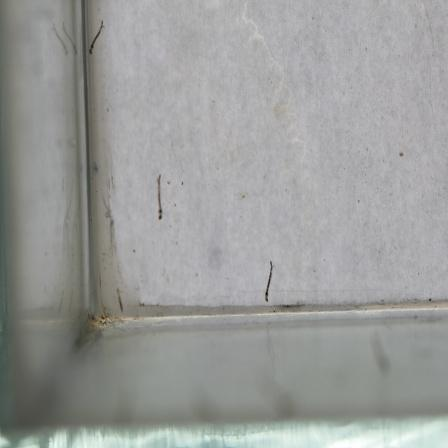Jentik-Nyamuk: (84, 17, 106, 57), (259, 258, 276, 304), (153, 171, 165, 223)
